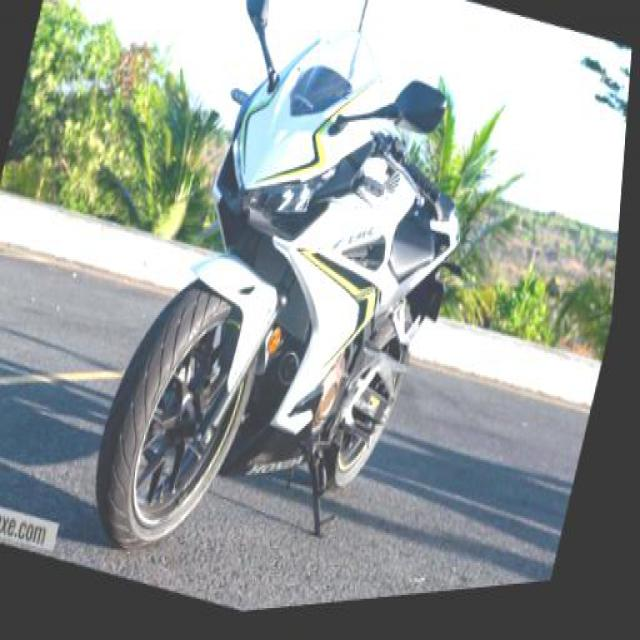CBR500R: (82, 0, 513, 629)
